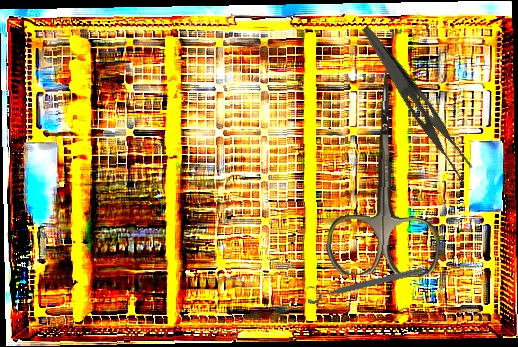Dressing Forceps: (345, 24, 484, 186)
Fixation Ring: (304, 258, 424, 305)
Iris Scissors: (325, 68, 446, 278)
